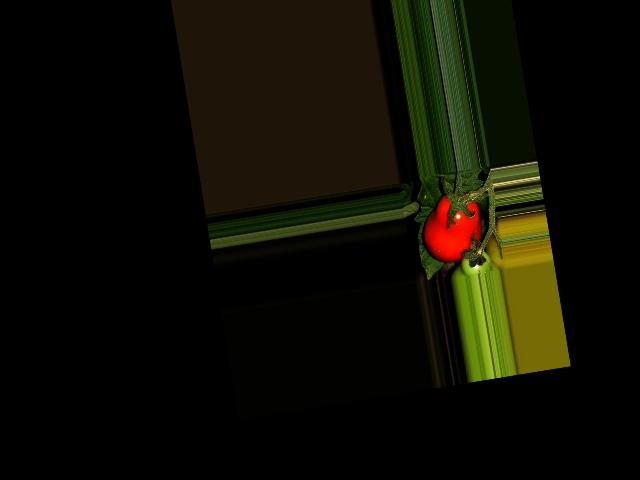tomato: (417, 188, 486, 265)
